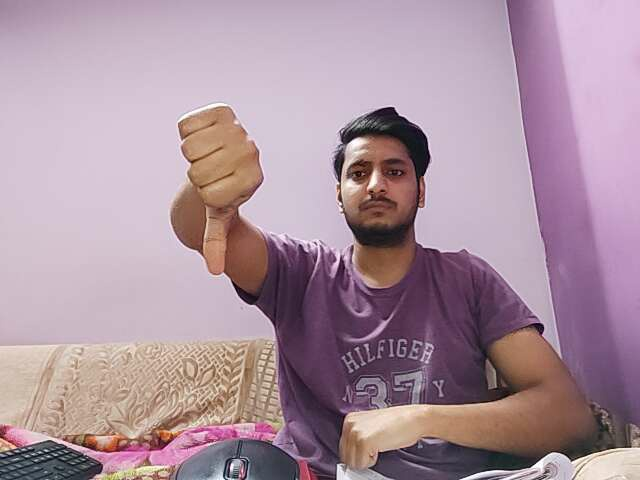ThumbsDown: (165, 102, 264, 287)
